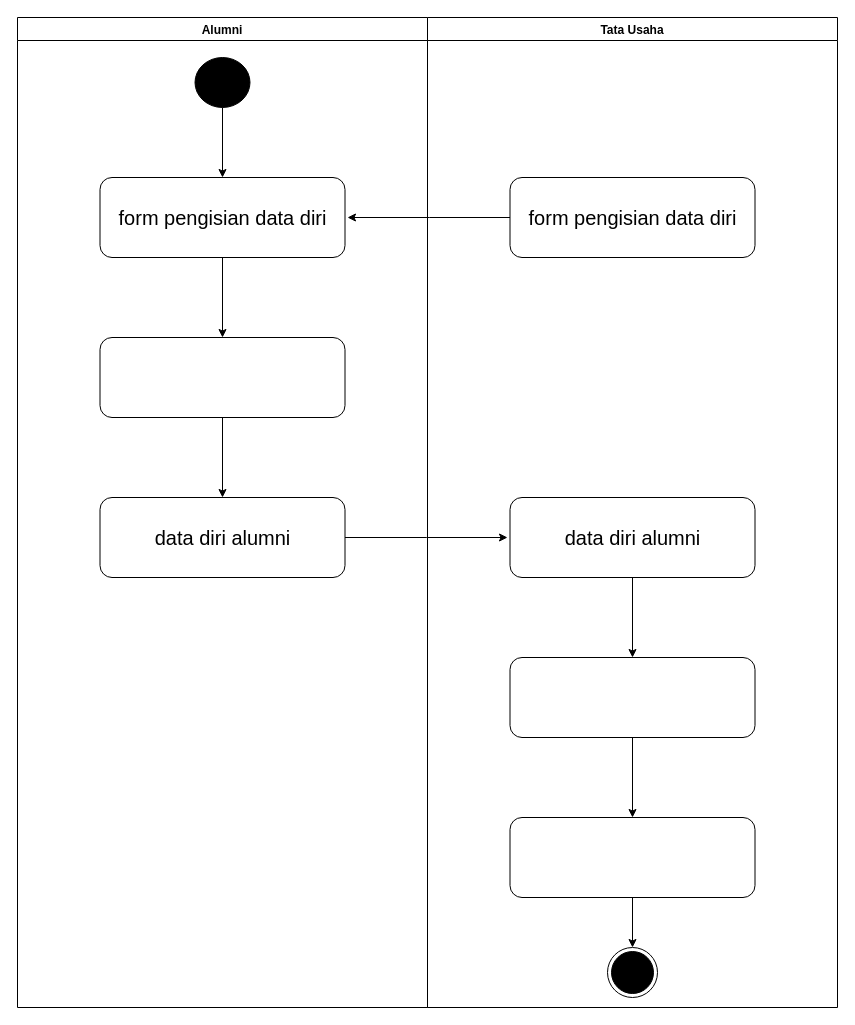
The diagram is 855 pixels wide and 1025 high, and some of its shapes have lost their labels. Here are the shapes that lost their labels. From the top down, the centre of each, then its label:
At (x=222, y=377): "mengisi form tersebut".
At (x=632, y=697): "merekap data alumni".
At (x=632, y=857): "rekap data alumni".
